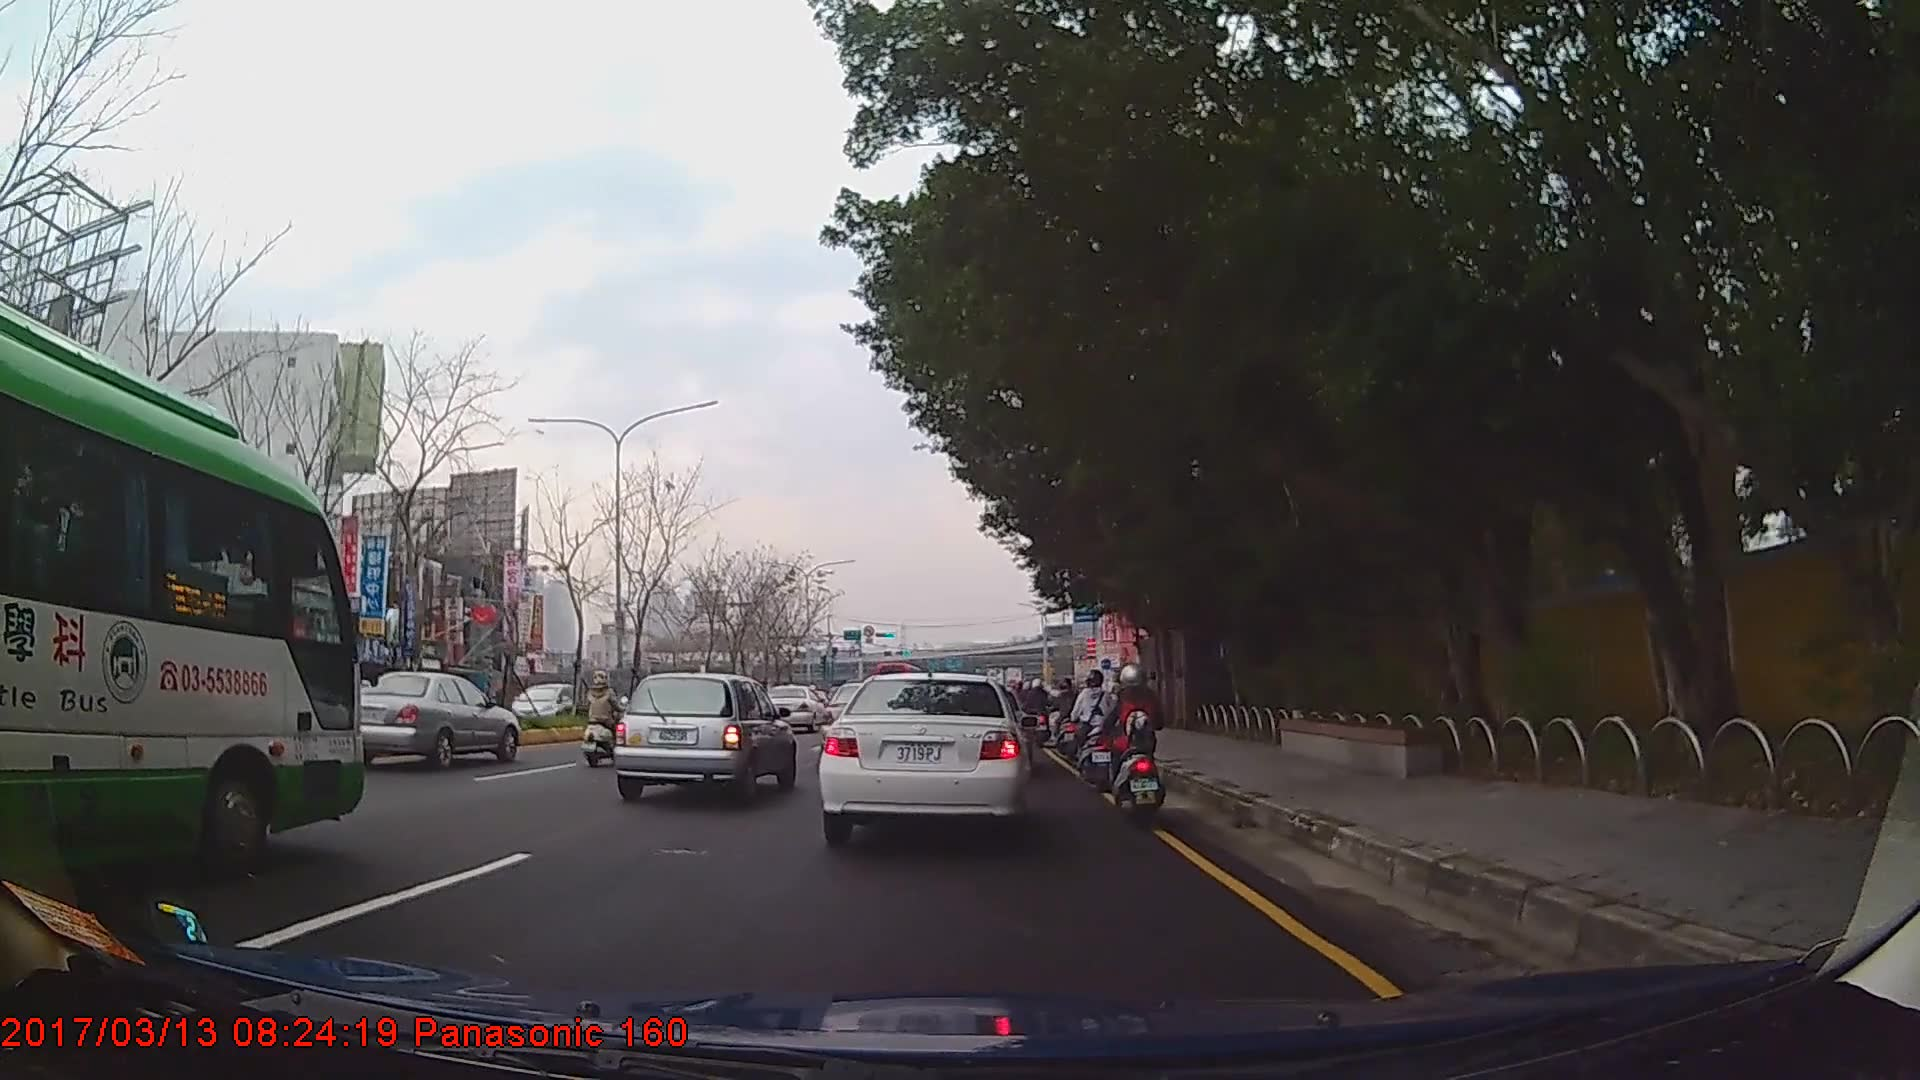rider: (1104, 661, 1164, 820), (1069, 669, 1115, 782), (588, 672, 627, 771), (1054, 679, 1081, 749)
vehicle: (0, 297, 364, 887), (819, 671, 1032, 850), (613, 671, 794, 802), (346, 670, 519, 768), (509, 682, 582, 730), (765, 682, 821, 728)
